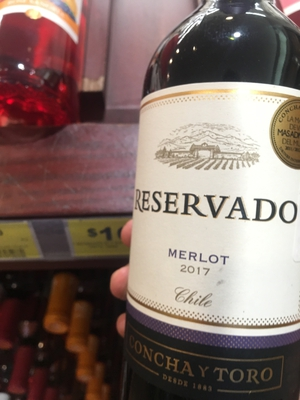reservado merlot: (116, 15, 300, 398)
